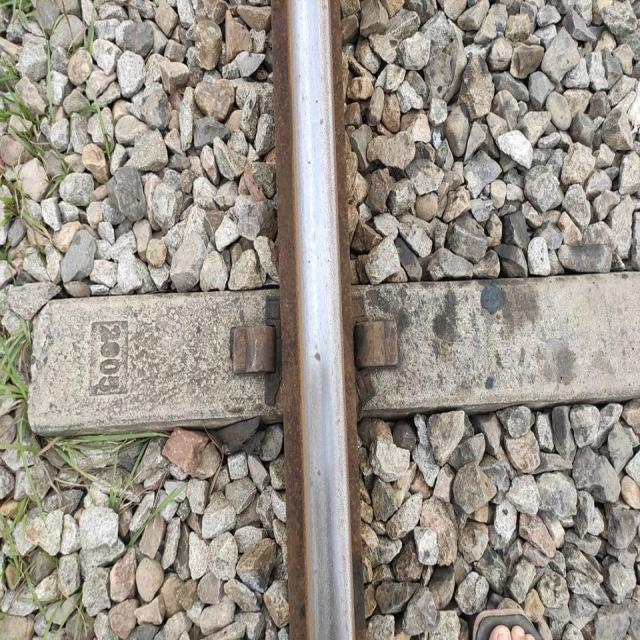squats_high: (314, 351, 324, 365), (316, 468, 322, 478)
